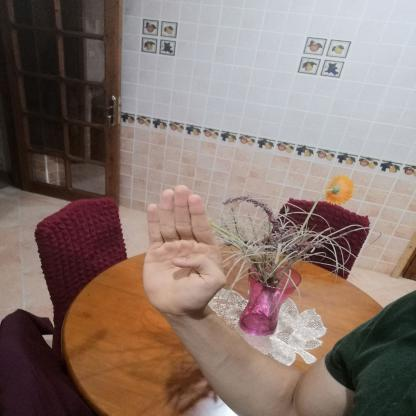KAAF: (129, 176, 235, 326)
